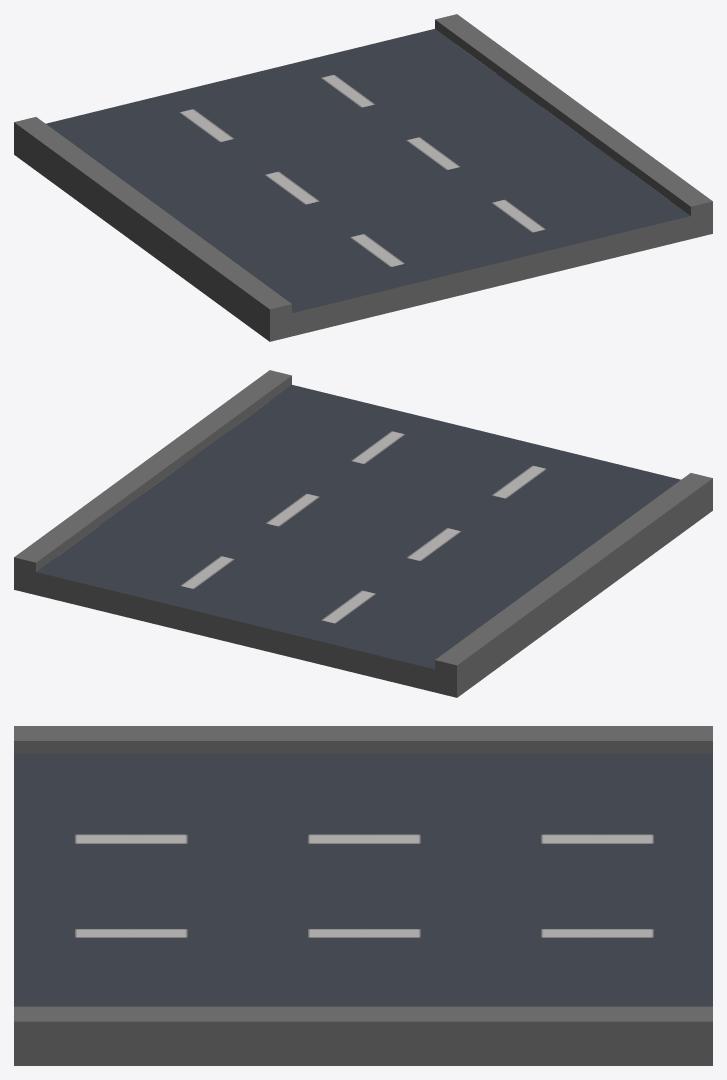
Rendered from road.fbx.
3 views of the same model, one above another, from view 1: azimuth 30°, elevation 25°; view 2: azimuth 150°, elevation 25°; view 3: azimuth 270°, elevation 25° (orthographic). The views are drawn at different scales.
Visible parts, largest first — view 1: road1; view 2: road1; view 3: road1.
Part boxes in pixels (<box>): road1: <box>14,14,712,341</box>; road1: <box>14,370,712,697</box>; road1: <box>14,726,712,1065</box>.
Bounding box in the file's own units: 2 × 0.14 × 2.
